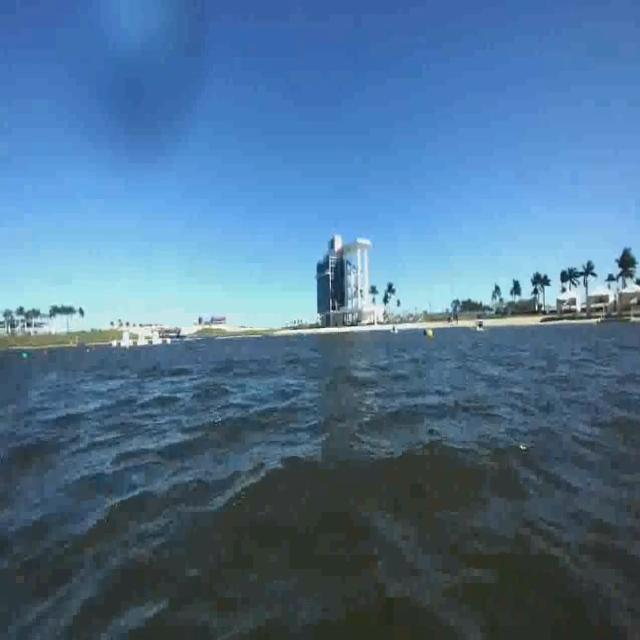yellow-buoy: (427, 326, 434, 339)
